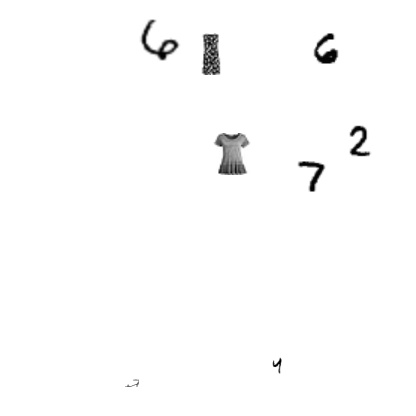2: (338, 120, 380, 162)
4: (267, 353, 289, 375)
6: (128, 16, 184, 72), (305, 29, 347, 71)
7: (292, 151, 334, 193)
Dress: (190, 33, 232, 75)
Sandal: (125, 376, 139, 390)
T-shirt/top: (211, 133, 253, 175)
